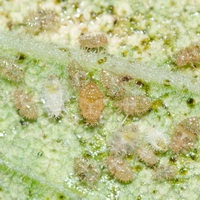insect: (77, 80, 104, 126), (119, 94, 153, 117), (78, 31, 108, 50)
